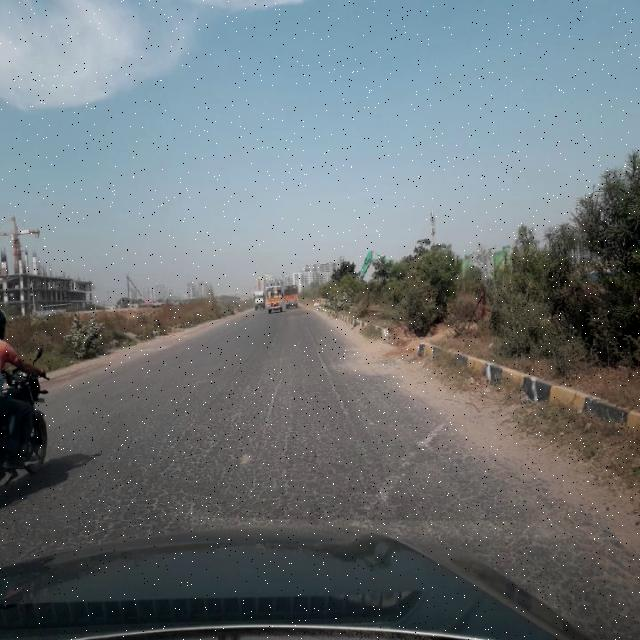D00: (315, 338, 392, 514), (241, 353, 309, 451)
D20: (28, 347, 578, 520)
